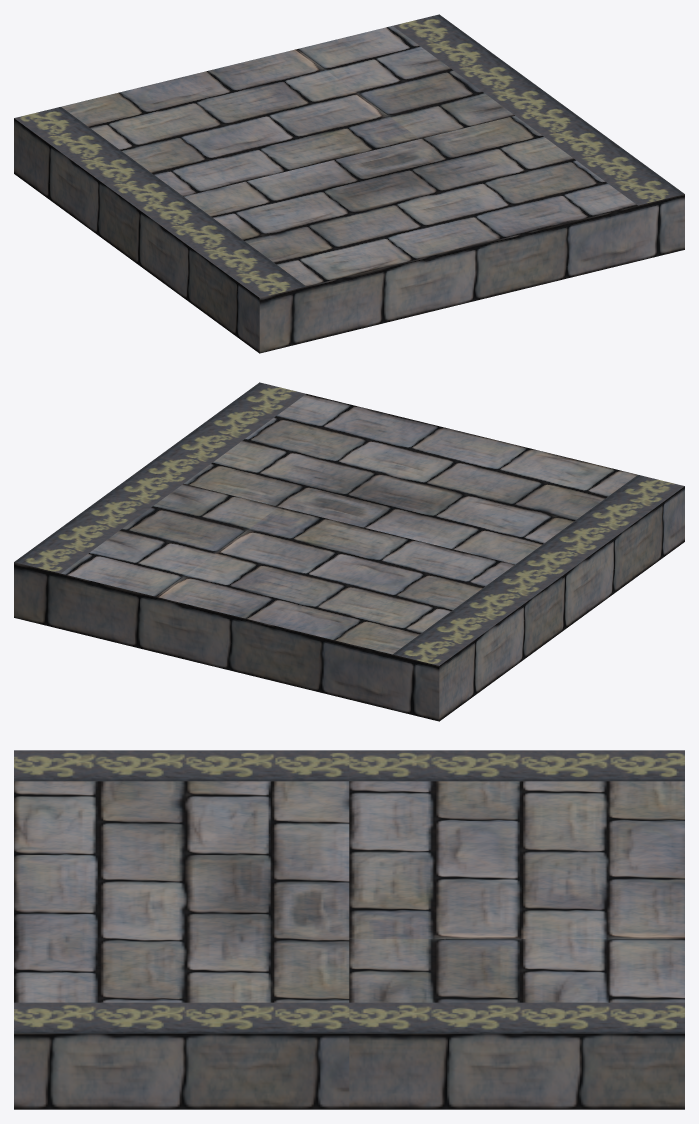
Rendered from floor_03.glb.
The picture shows the model from 3 angles, top to bottom: view 1: azimuth 30°, elevation 25°; view 2: azimuth 150°, elevation 25°; view 3: azimuth 270°, elevation 25°; orthographic projection. The views are drawn at different scales.
Visible parts, largest first — view 1: floor_03; view 2: floor_03; view 3: floor_03.
Part boxes in pixels (left/top/right/bottom): floor_03: left=14, top=14, right=684, bottom=353; floor_03: left=14, top=382, right=684, bottom=721; floor_03: left=14, top=750, right=684, bottom=1109.
Size of the model in its own units: 8 by 1 by 8.
Materials: 1 (1 with a texture image).
